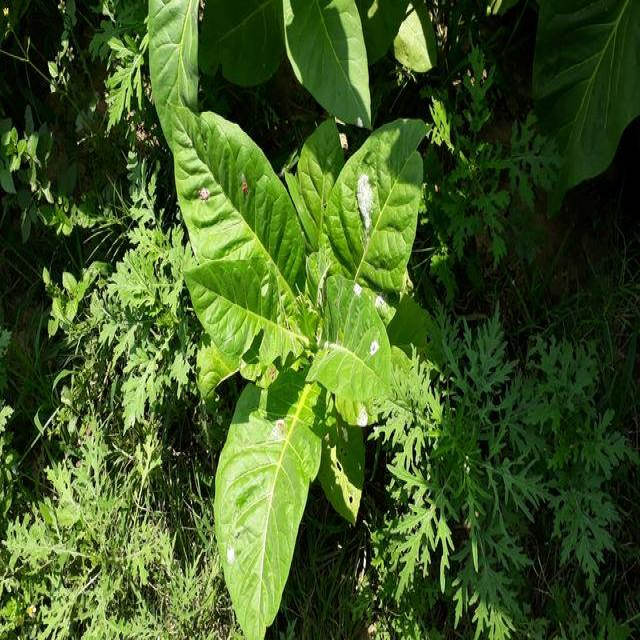crop: (150, 99, 418, 636), (140, 0, 429, 115), (523, 0, 640, 205)
